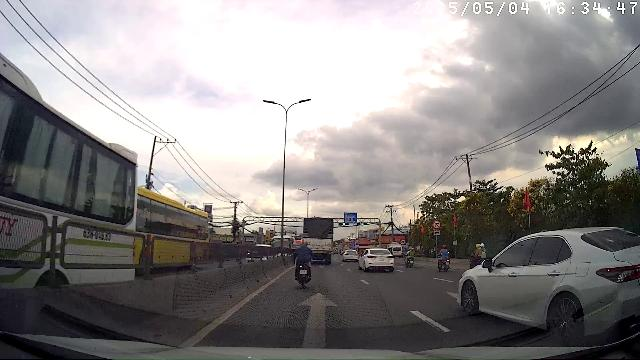123b-cam-re-phai: (432, 219, 442, 229)
